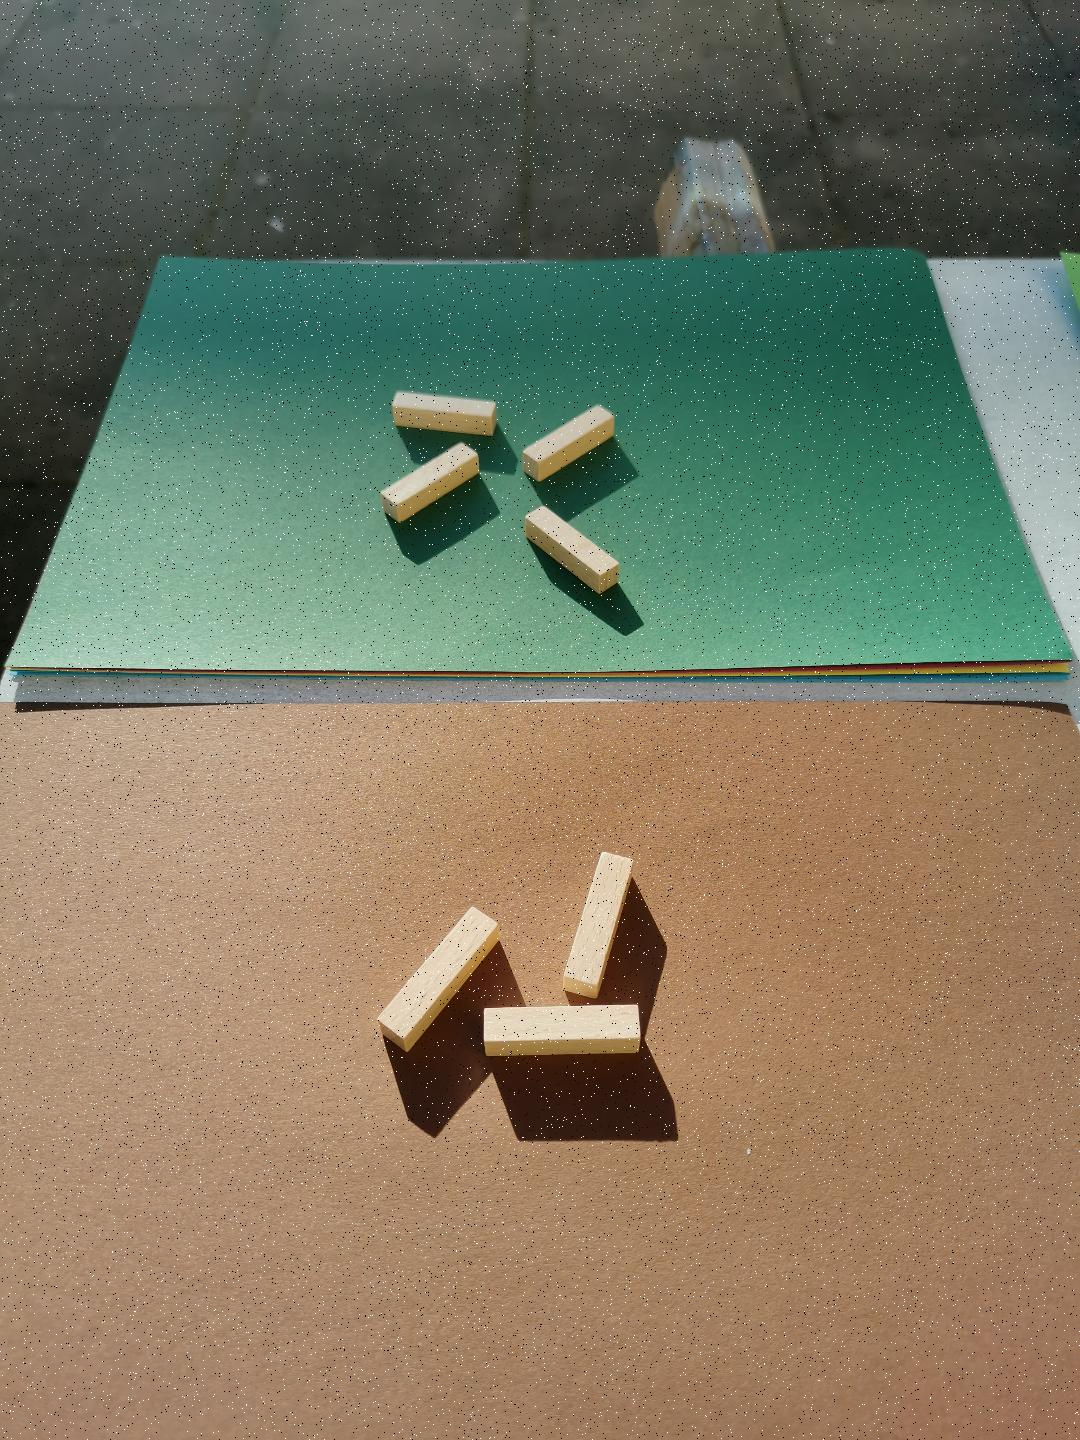jenga: (377, 908, 498, 1052), (563, 853, 633, 999), (483, 1005, 641, 1058), (526, 506, 618, 593), (380, 441, 478, 523), (523, 405, 613, 481), (394, 391, 495, 435)
